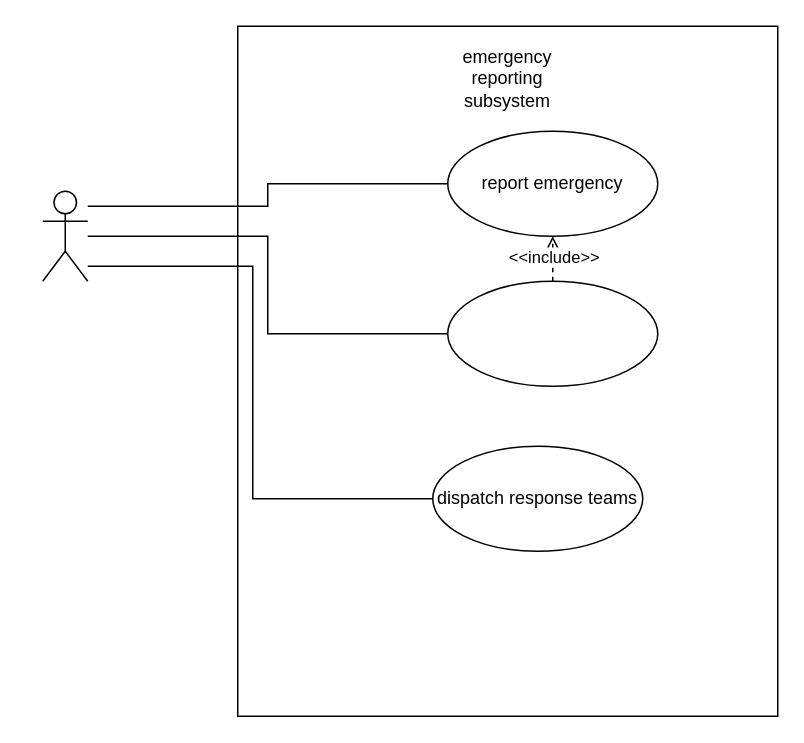
The diagram is 804 pixels wide and 743 high, and some of its shapes have lost their labels. Here are the shapes that lost their labels. From the top down, the centre of each, then its label:
point (64, 235): ER admin
point (552, 333): notify users nearby
